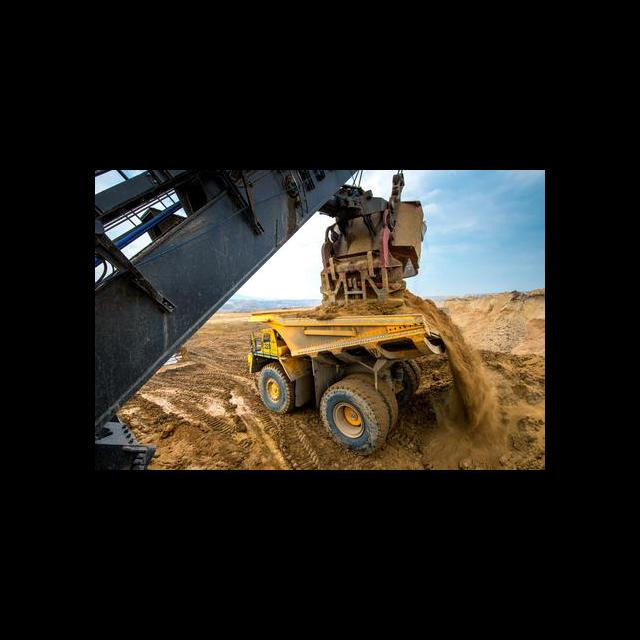Excavator: (95, 170, 427, 469)
dump truck: (246, 305, 471, 453)
